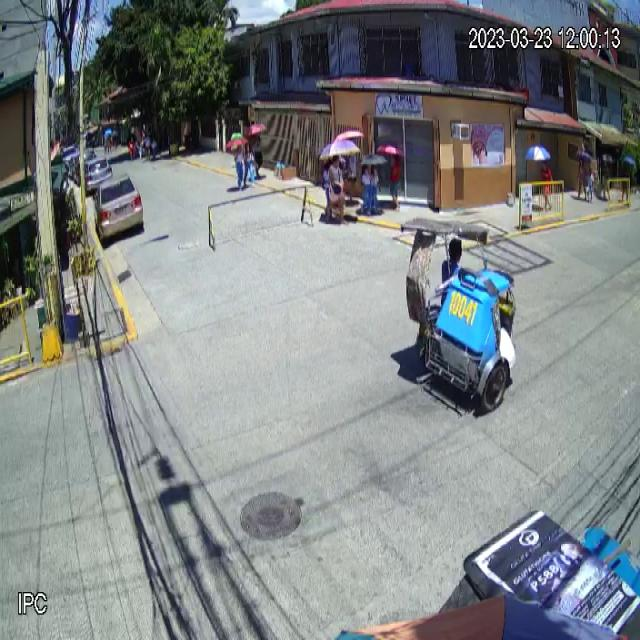Car: (92, 173, 144, 242)
Tricycle: (399, 215, 519, 414)
